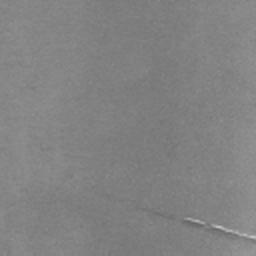Finishing roll printing: (141, 208, 256, 242)
